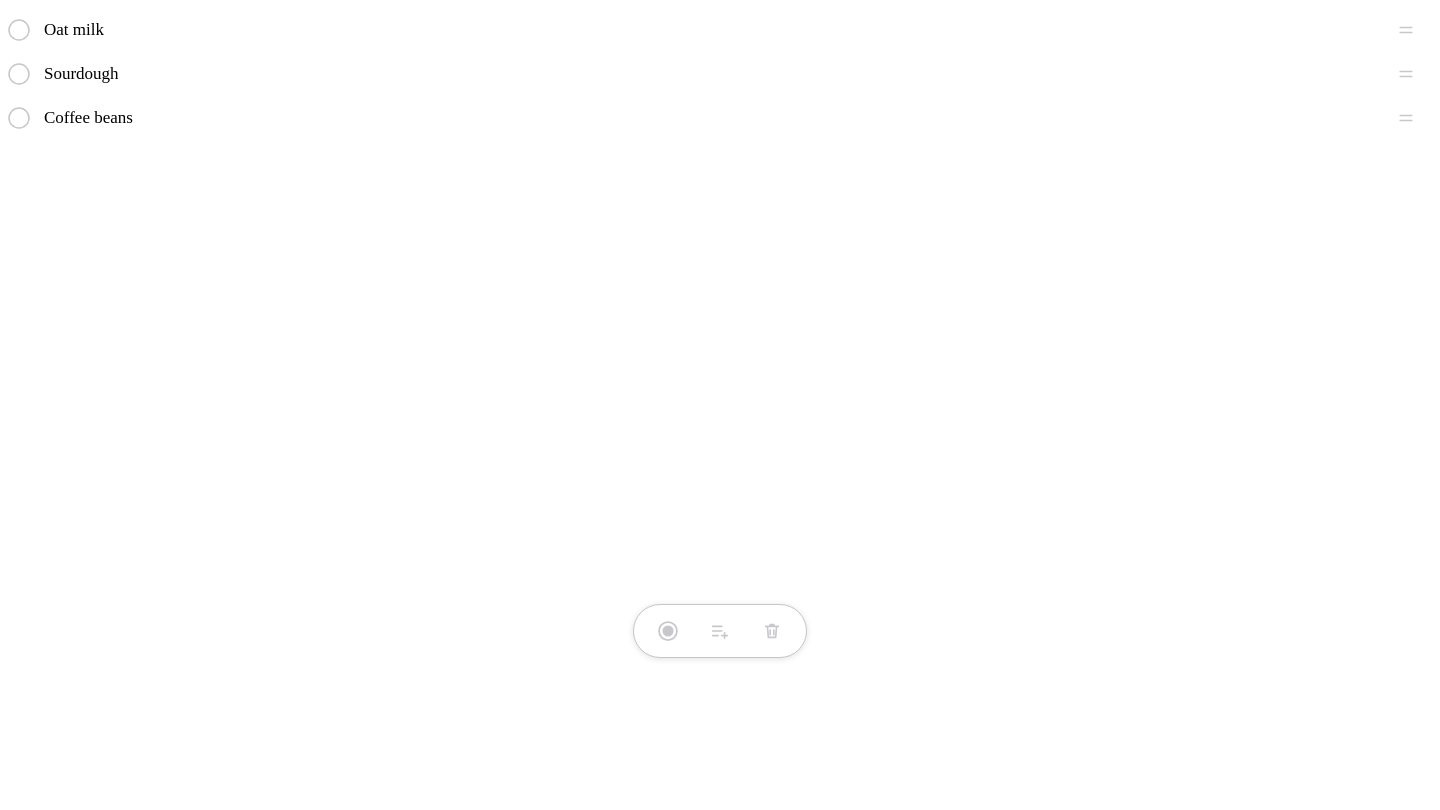
Test: TaskList move drawer (Unit) › moves every selected task to the list chosen in the drawer
Click the button "Oat milk" at point(74, 30), box [44,8,1344,52]
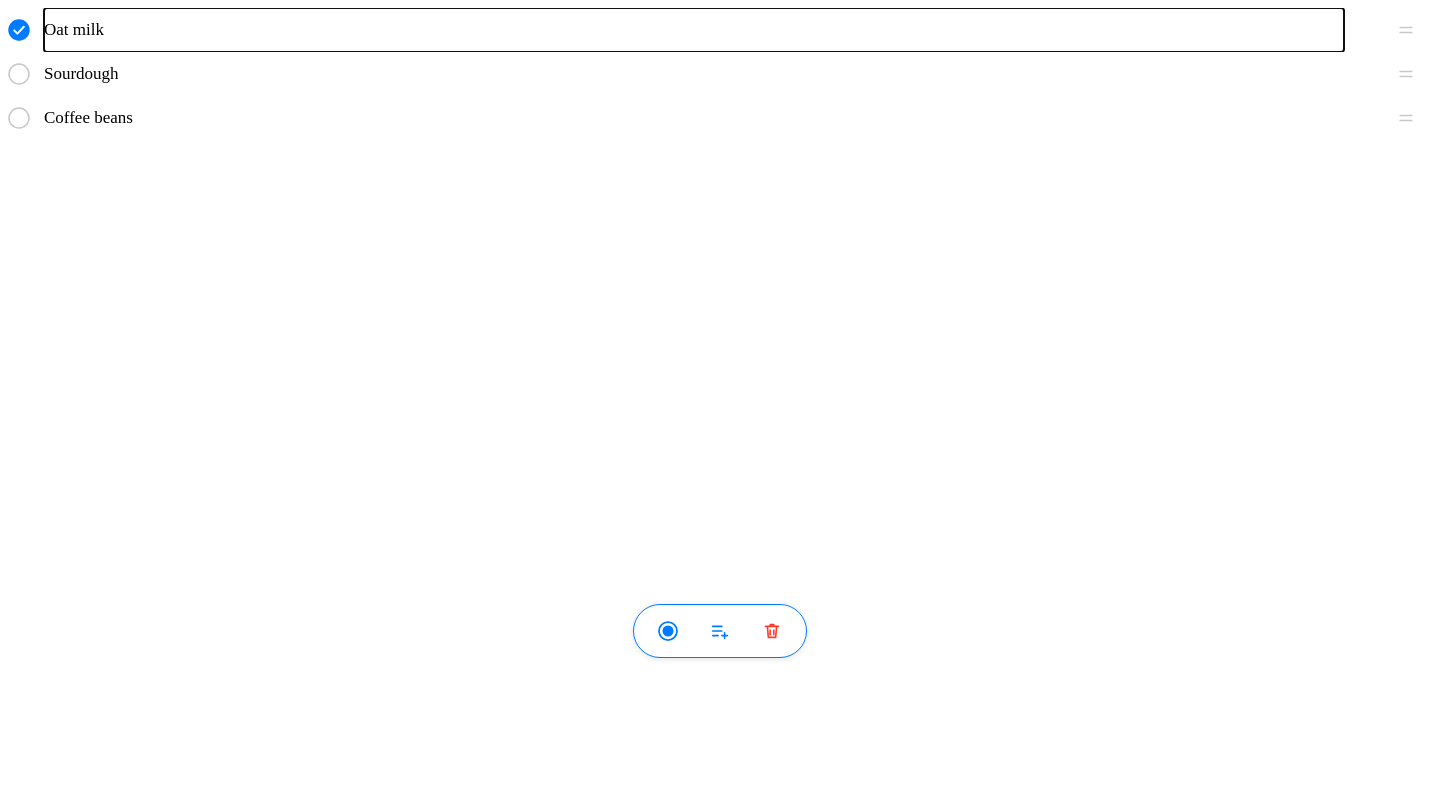
Click the button "Sourdough" at point(81, 74), box [44,52,1344,96]
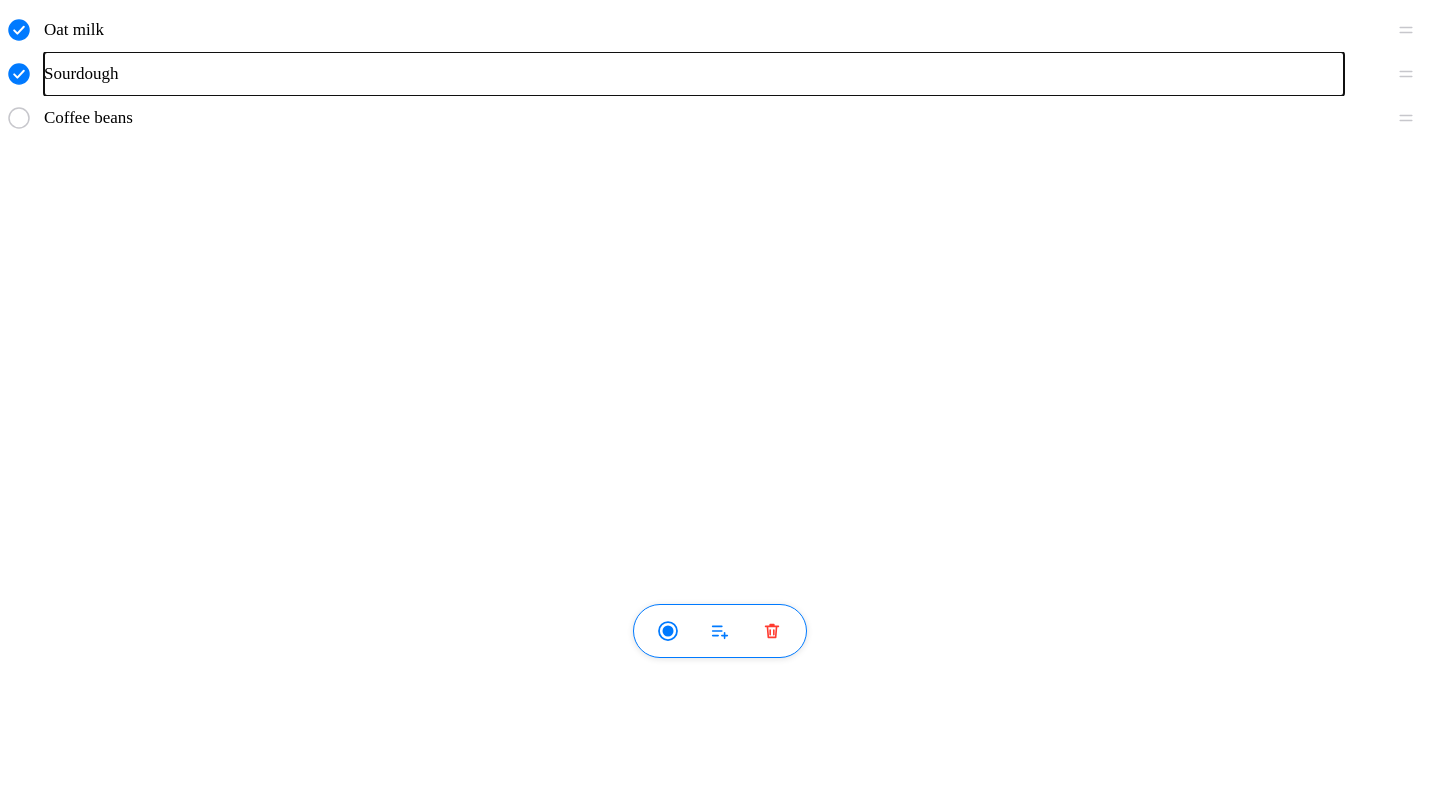
Click the button named "Move selected tasks" at point(720, 631), box [698,609,742,653]
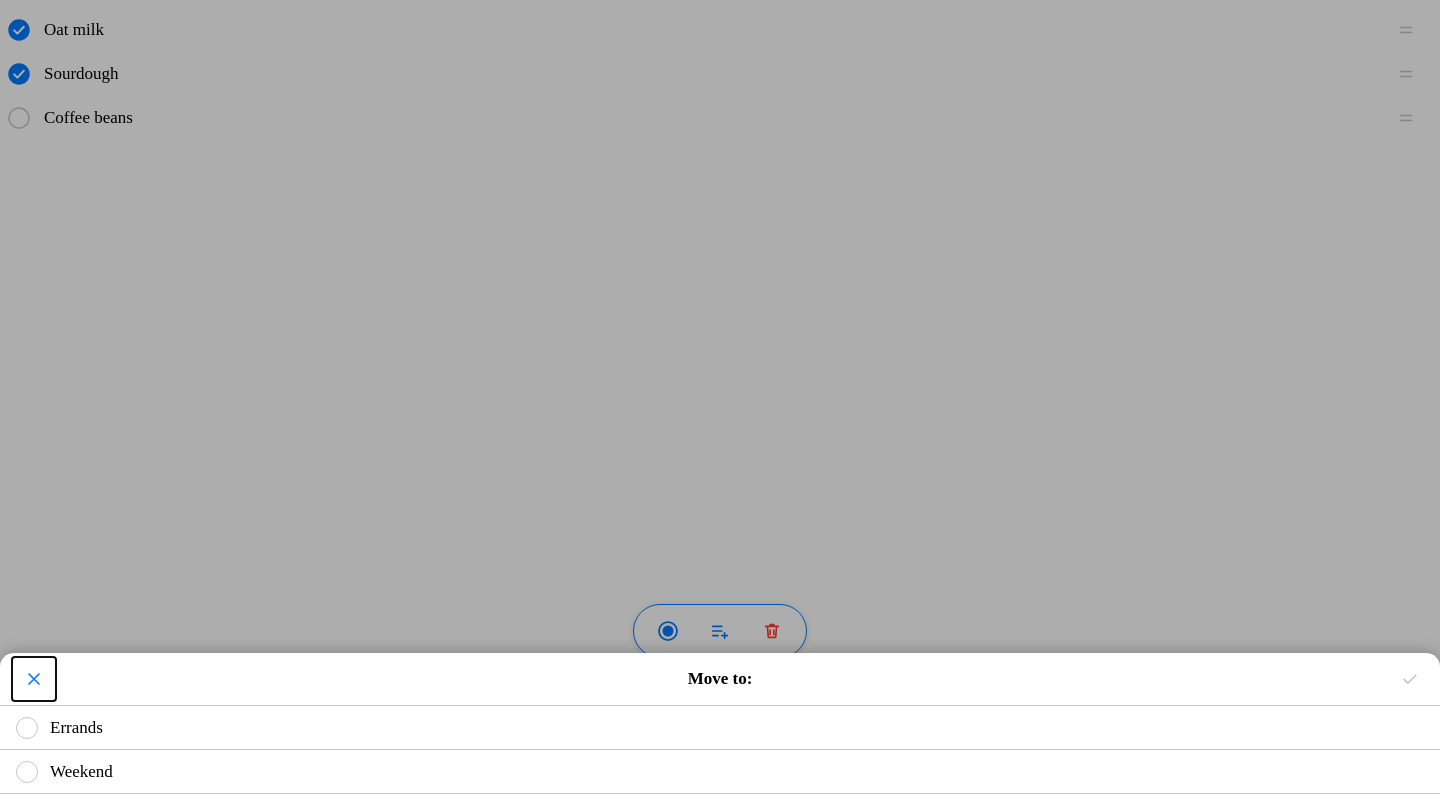
Click the radio button labelled "Weekend" at point(81, 771), box [0,750,1439,794]
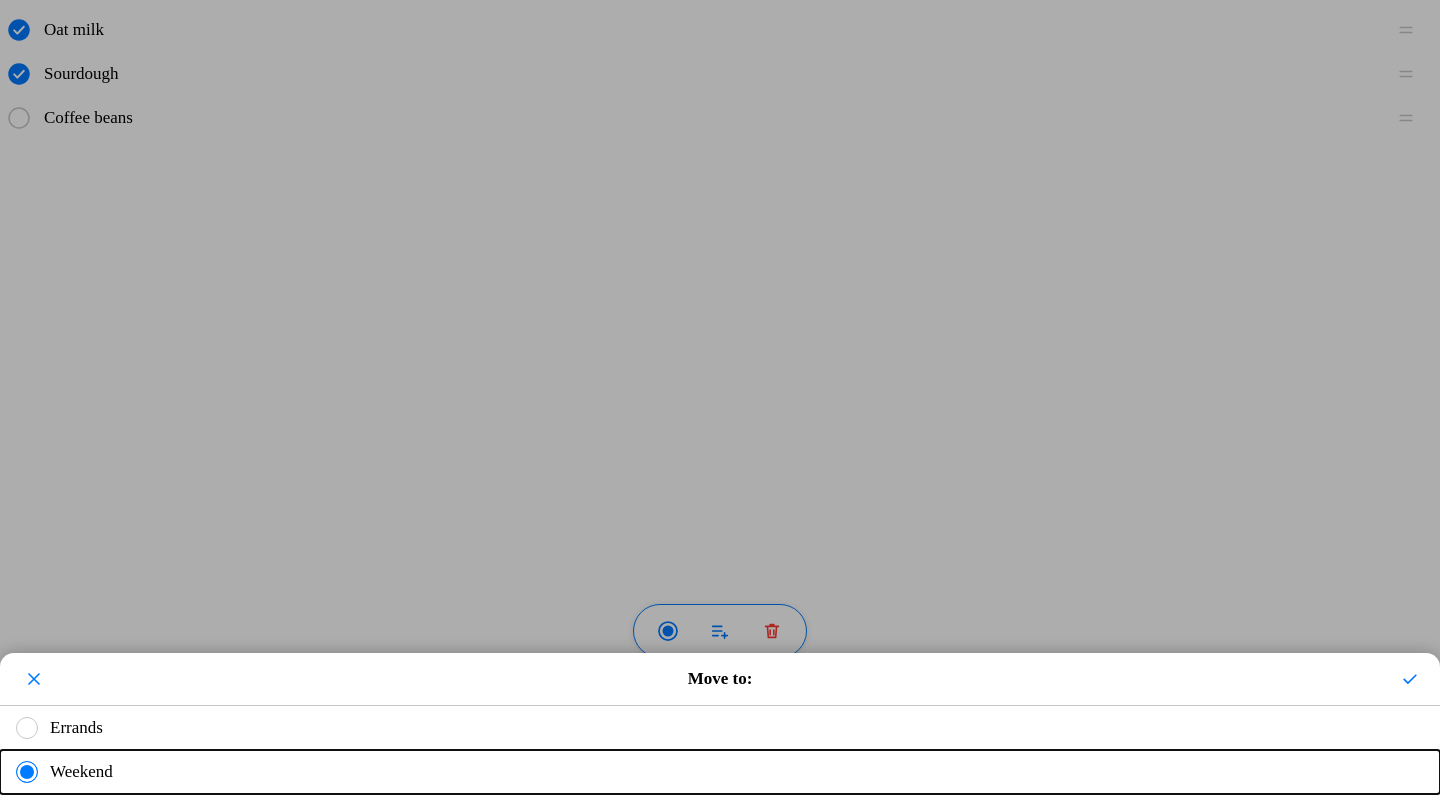
Click the button named "Move" at point(1410, 679), box [1388,657,1432,701]
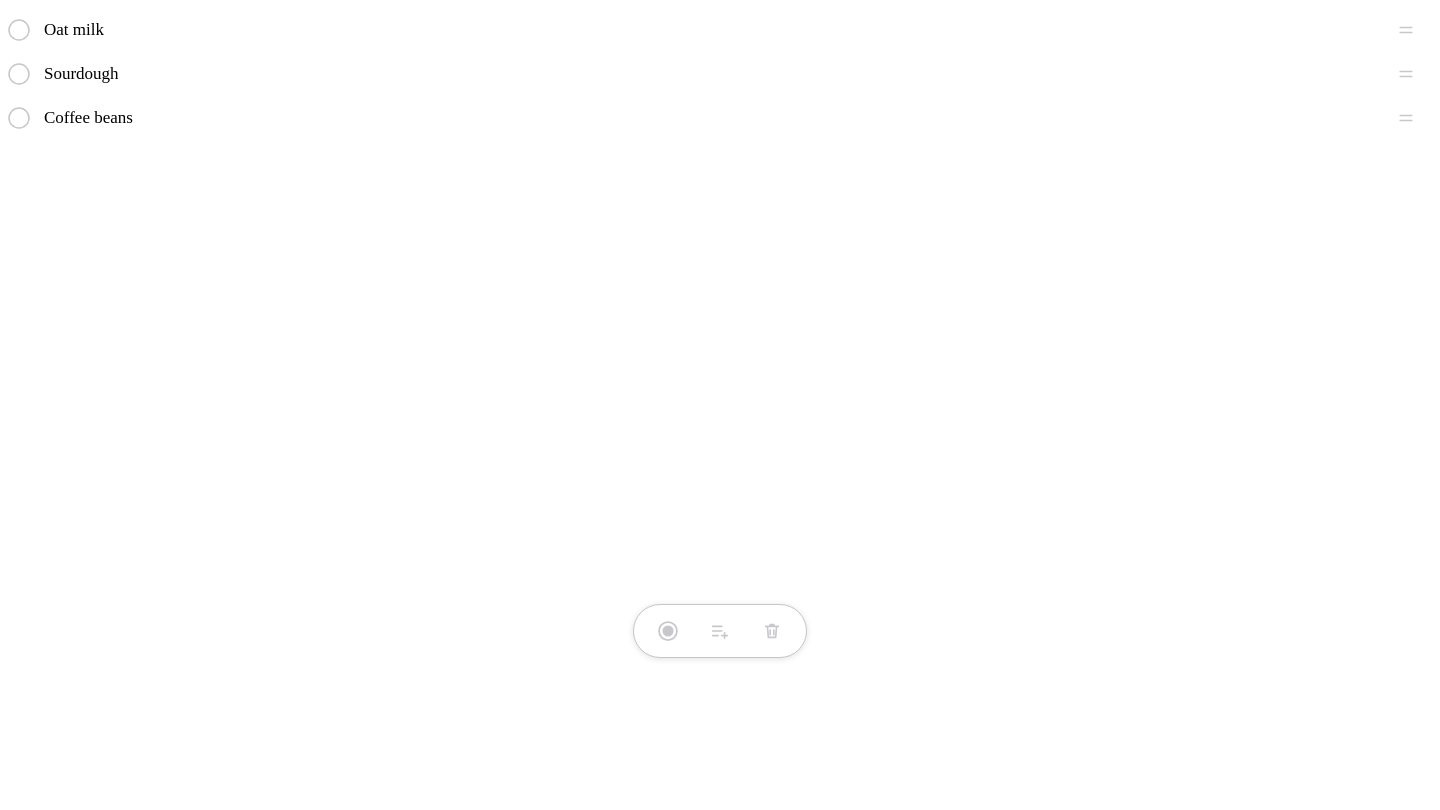
Now the heading "Move to:" is gone
